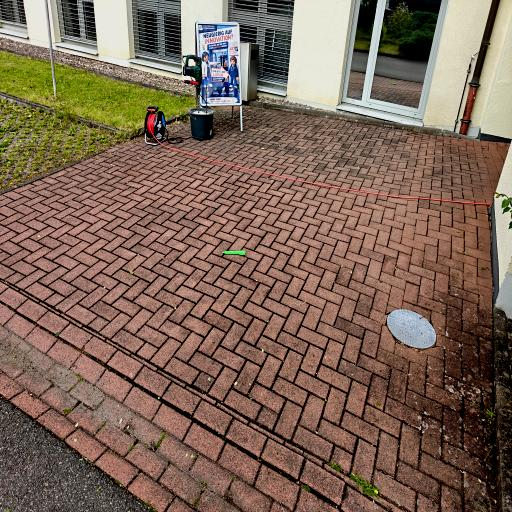Probe-Detection: (222, 250, 245, 256)
